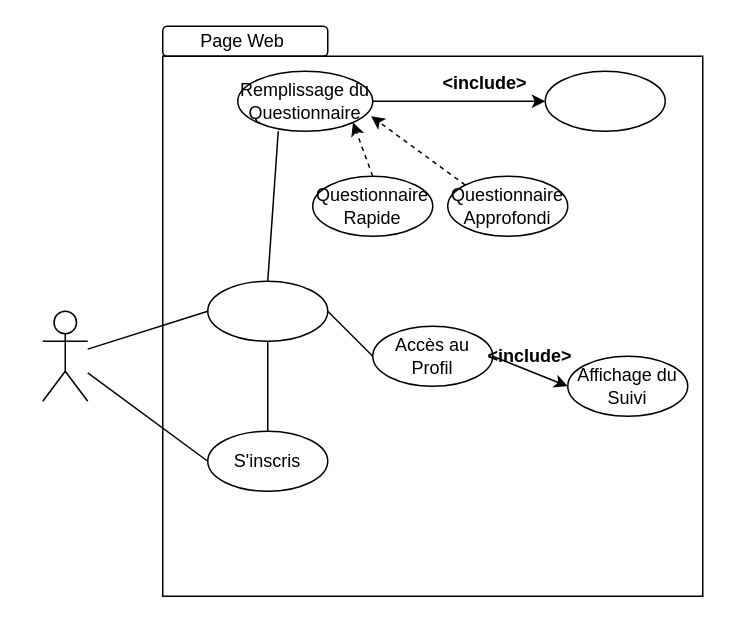
The diagram is 729 pixels wide and 623 high, and some of its shapes have lost their labels. The shapes that lost their labels are listed below. From the top down, each one's centre as x and y in pixels, then its label:
the point at 604,100: Affichage résultat
the point at 267,310: Se Connecte
the point at 64,355: Utilisateur
